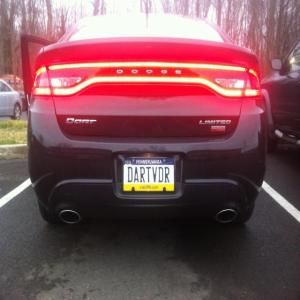Plate: (124, 157, 175, 193)
